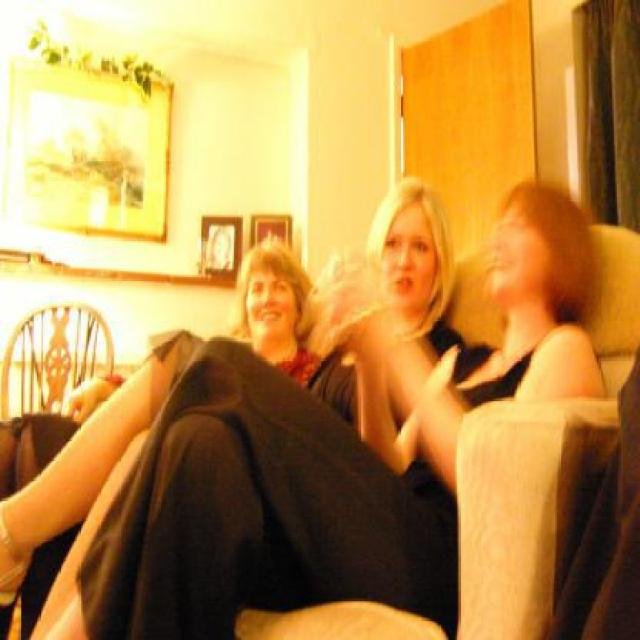Person: (45, 182, 608, 638), (0, 184, 457, 638), (0, 236, 318, 639)
